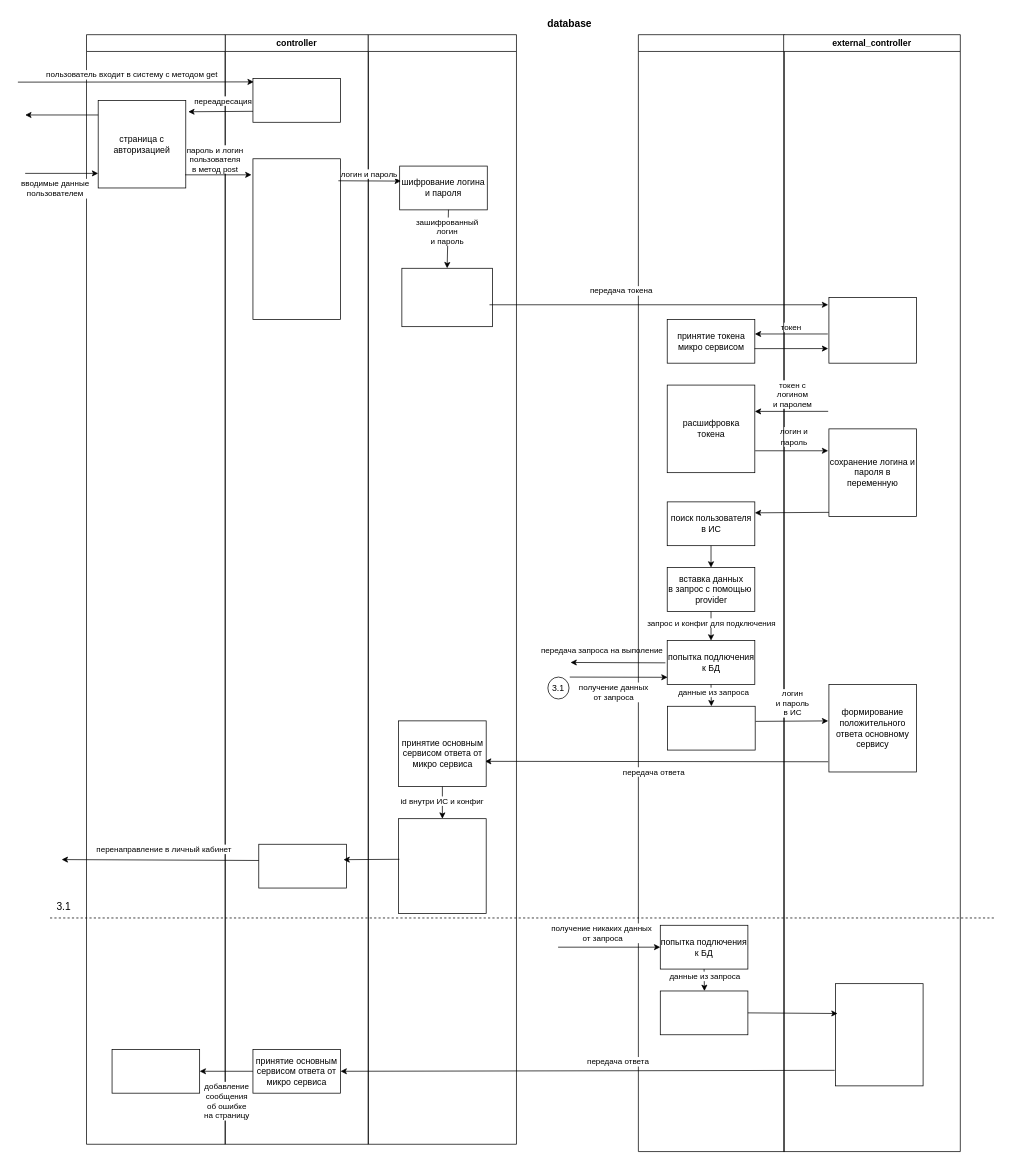
Some shapes in this 1010 by 1164 pixel diagram are drawn without their labels. The shapes that lost their labels are listed below. From the top down, each one's box as (x1, y1, x2, y2) in pixels, then its label:
(401, 268, 492, 327): создание токена для передачи его в микро-сервис
(86, 34, 225, 1144): viewer
(368, 34, 516, 1144): model
(638, 34, 784, 1152): external_model
(398, 818, 486, 914): создание сессии для внешнего пользователя
(835, 983, 923, 1086): формирование отрицательного ответа основному сервису
(111, 1049, 200, 1093): страница с авторизацией с сообщением об ошибке
